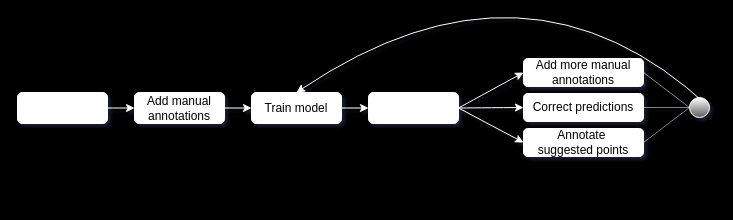
Image size: 733x220. Some labels were removed from this diagram. The centre of each missing label's shape, as x and y in pixels:
"Inspect model predictions" belongs at point 413,108.
"Load Data" belongs at point 62,108.
